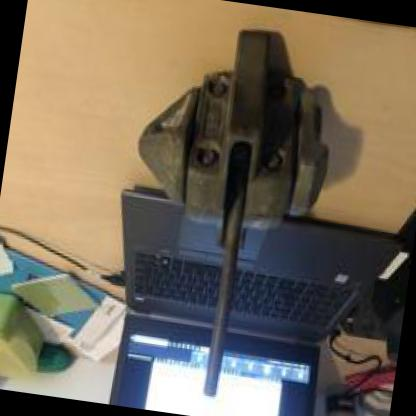Twistlock: (92, 7, 354, 415)
